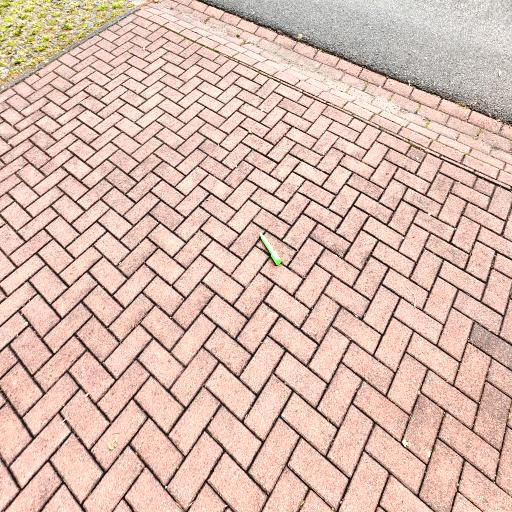Probe-Detection: (260, 233, 281, 265)
